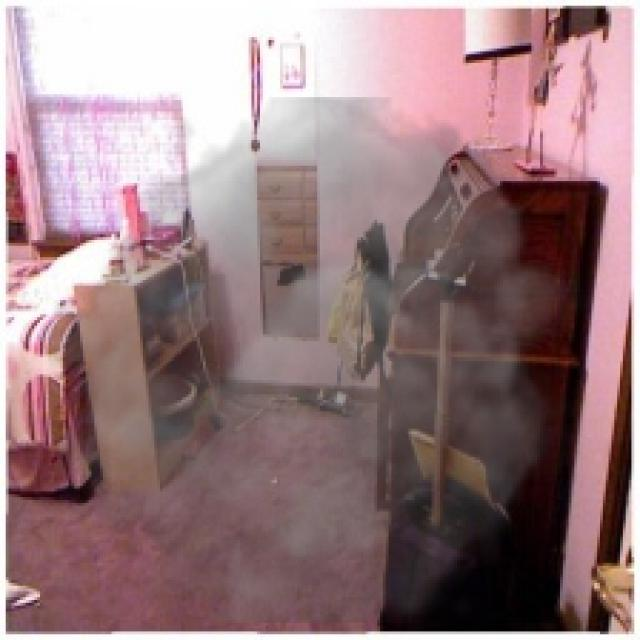smoke: (34, 97, 589, 623)
